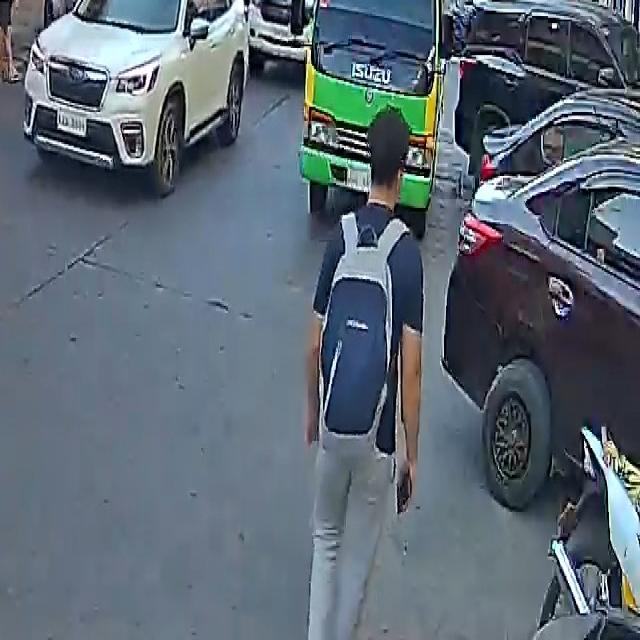car: (440, 150, 640, 511), (21, 0, 248, 196), (455, 0, 640, 174), (248, 0, 342, 84)
